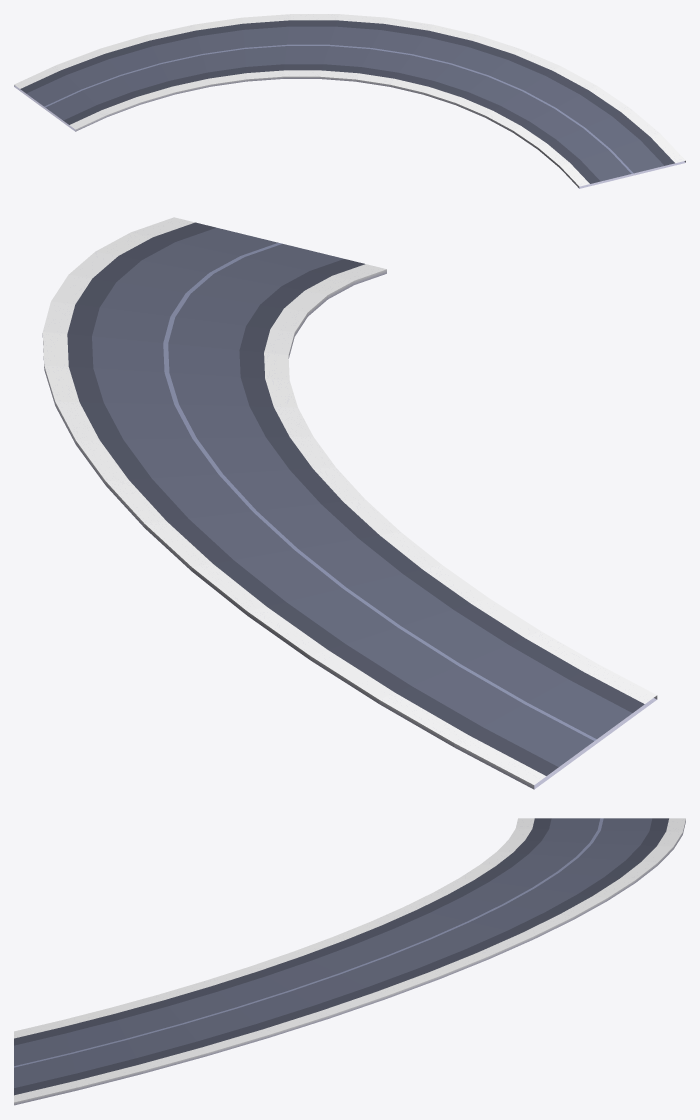
File: road-Turn-BiSlopeUp-BiSlopeDown-Even-Left-Size4.glb
3 renders of one model, top to bottom at view 1: azimuth 30°, elevation 25°; view 2: azimuth 150°, elevation 25°; view 3: azimuth 270°, elevation 25°, orthographic. The views are drawn at different scales.
Visible parts, largest first — view 1: road-Turn-BiSlopeUp-BiSlopeDown-Even-Left-Size4; view 2: road-Turn-BiSlopeUp-BiSlopeDown-Even-Left-Size4; view 3: road-Turn-BiSlopeUp-BiSlopeDown-Even-Left-Size4.
Part boxes in pixels (x1,y1,x2,y2): road-Turn-BiSlopeUp-BiSlopeDown-Even-Left-Size4: [14, 14, 685, 188]; road-Turn-BiSlopeUp-BiSlopeDown-Even-Left-Size4: [42, 217, 657, 789]; road-Turn-BiSlopeUp-BiSlopeDown-Even-Left-Size4: [14, 818, 685, 1105].
Bounding box in the file's own units: 4 × 0.4341 × 4.
Materials: 1 (1 with a texture image).
